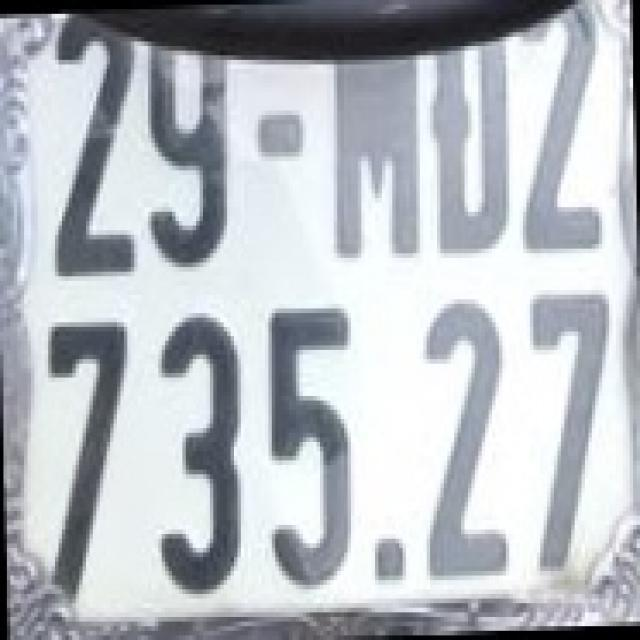2: (413, 290, 516, 585), (41, 14, 141, 281), (520, 9, 610, 253)
3: (151, 308, 248, 594)
5: (265, 300, 358, 590)
7: (41, 313, 131, 599), (526, 286, 609, 576)
9: (141, 28, 234, 272)
D: (430, 28, 520, 262)
M: (328, 60, 428, 267)
